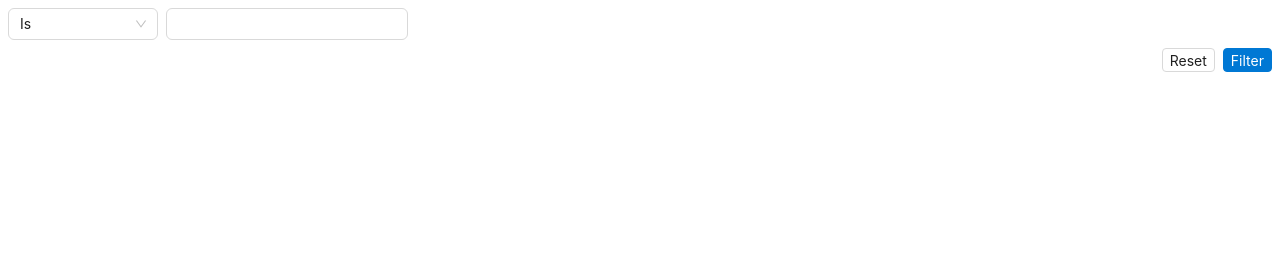
Test: TextColumnFilterDropdown › with enableExact shows Is as default and lists Is not in dropdown
Press the mouse on the dropdown labelled "Is" at x=26, y=24, box x1=20 y1=15 x2=31 y2=32
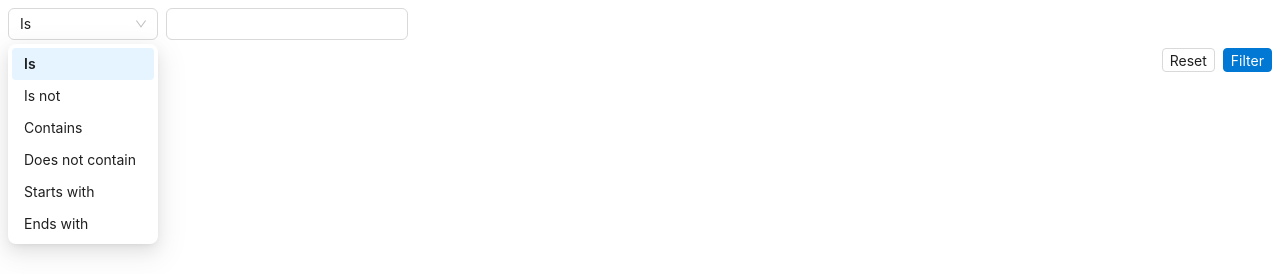
Expected: the text "Is not" is shown, x1=24 y1=87 x2=60 y2=104
